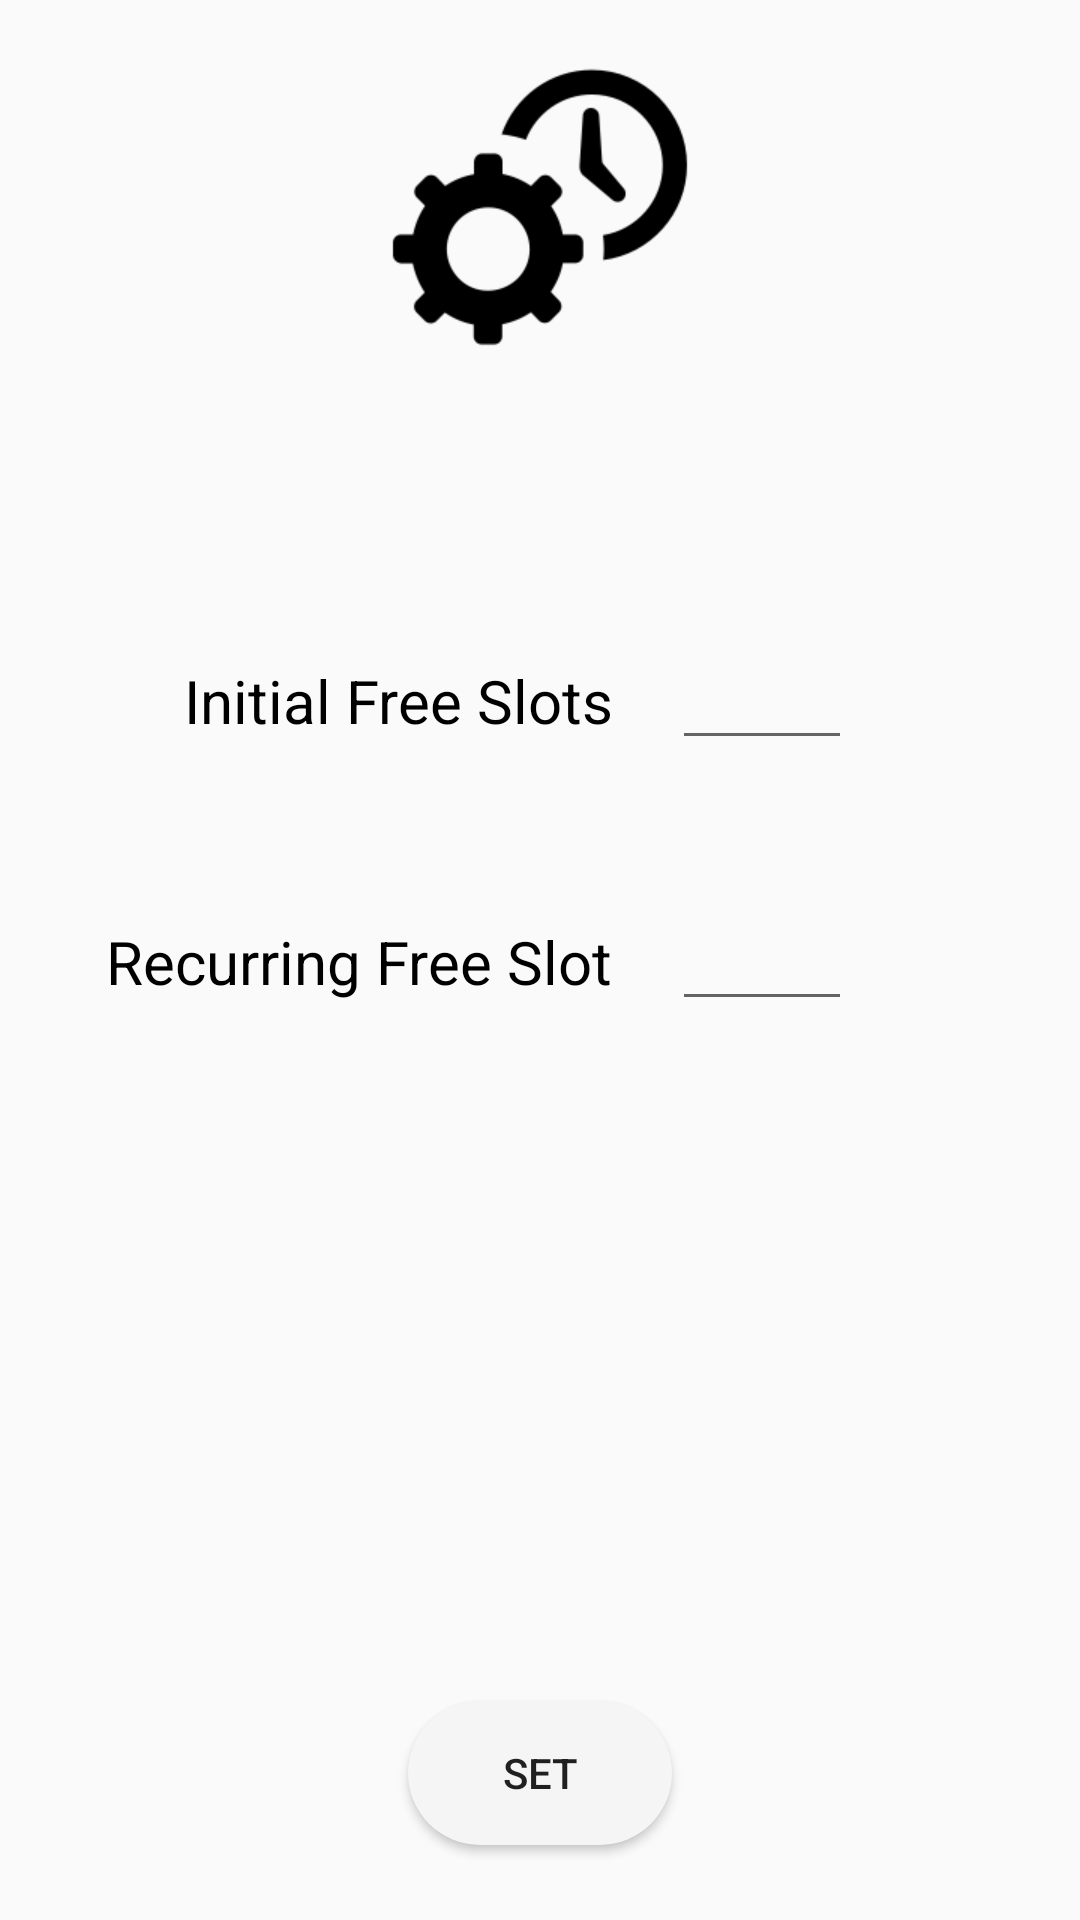

Locate icon controls on the screen. Image size 1080w x 1920h, boxes as (x1, y1, x2, y2).
settings: (392, 69, 688, 346)
